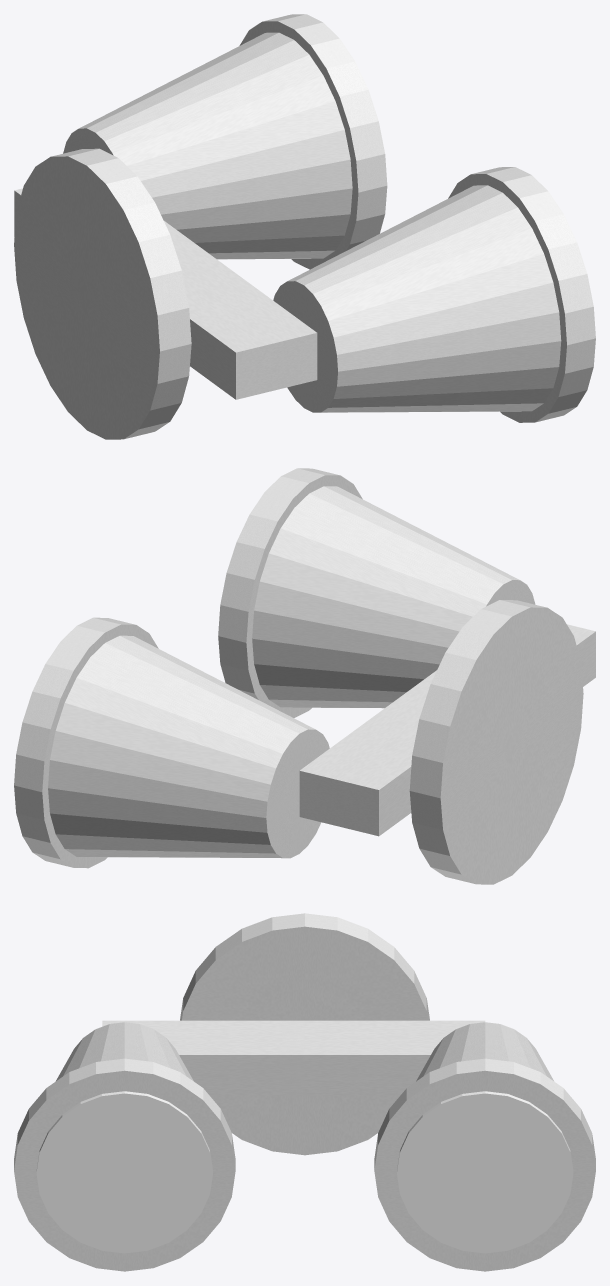
The model's file is twineavefloodlight.obj.
3 renders of one model, top to bottom at view 1: azimuth 30°, elevation 25°; view 2: azimuth 150°, elevation 25°; view 3: azimuth 270°, elevation 25°, orthographic. The views are drawn at different scales.
Visible parts, largest first — view 1: Head1Metal, Head0Metal, Base, Metal, Head1Trim, Head0Trim; view 2: Head0Metal, Head1Metal, Base, Metal, Head0Trim, Head1Trim; view 3: Base, Light0, Light1, Metal, Head0Trim, Head1Trim, Head0Metal, Head1Metal.
Part boxes in pixels (x1,y1,x2,y2): Head1Metal: [273, 185, 561, 412]; Head0Metal: [63, 32, 352, 259]; Base: [14, 148, 191, 439]; Metal: [14, 188, 317, 399]; Head1Trim: [448, 167, 595, 422]; Head0Trim: [239, 14, 387, 269]; Head0Metal: [48, 635, 329, 858]; Head1Metal: [252, 486, 535, 708]; Base: [409, 600, 583, 884]; Metal: [299, 624, 595, 836]; Head0Trim: [14, 617, 158, 868]; Head1Trim: [218, 468, 362, 717]; Base: [180, 913, 429, 1155]; Light0: [397, 1091, 573, 1253]; Light1: [36, 1091, 212, 1253]; Metal: [102, 1020, 485, 1095]; Head0Trim: [374, 1058, 595, 1271]; Head1Trim: [14, 1058, 235, 1271]; Head0Metal: [416, 1022, 553, 1081]; Head1Metal: [56, 1022, 193, 1081].
Bounding box in the file's own units: 0.383 × 0.28 × 0.646.
